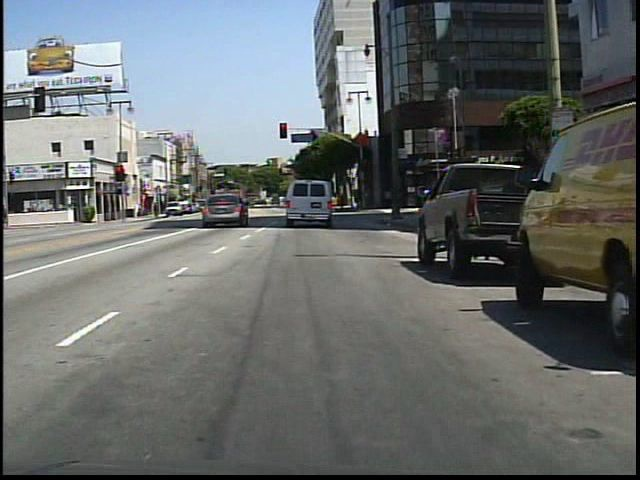person: (301, 185, 321, 222), (238, 193, 253, 218)
